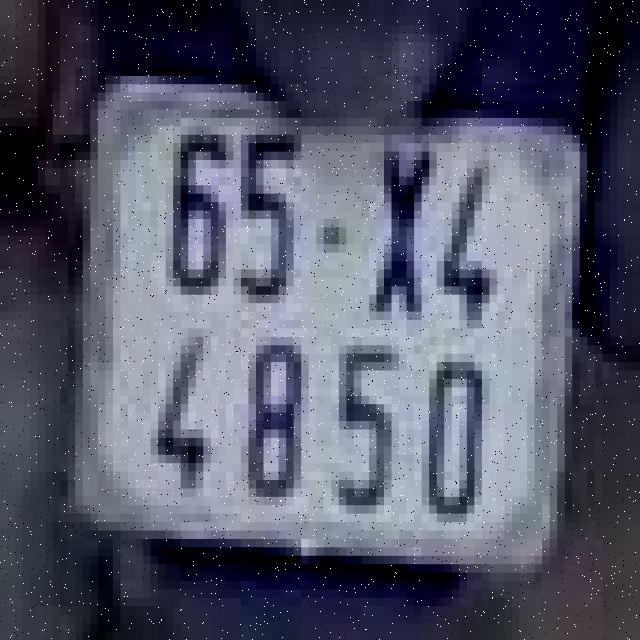0: (418, 341, 478, 535)
4: (436, 147, 504, 341), (158, 328, 226, 488)
5: (331, 333, 399, 518), (238, 118, 298, 303)
6: (166, 114, 233, 299)
8: (241, 329, 309, 522)
X: (361, 143, 437, 320)
